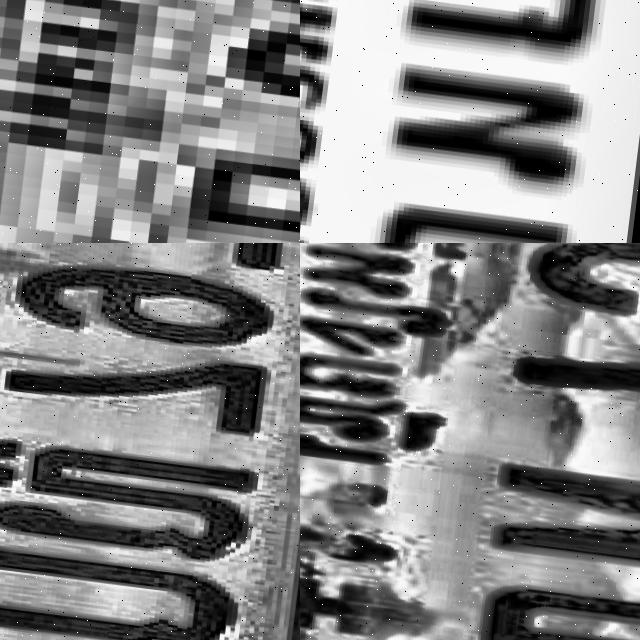license-plate: (300, 243, 640, 640), (0, 243, 300, 640), (300, 0, 640, 243), (0, 0, 300, 243)
